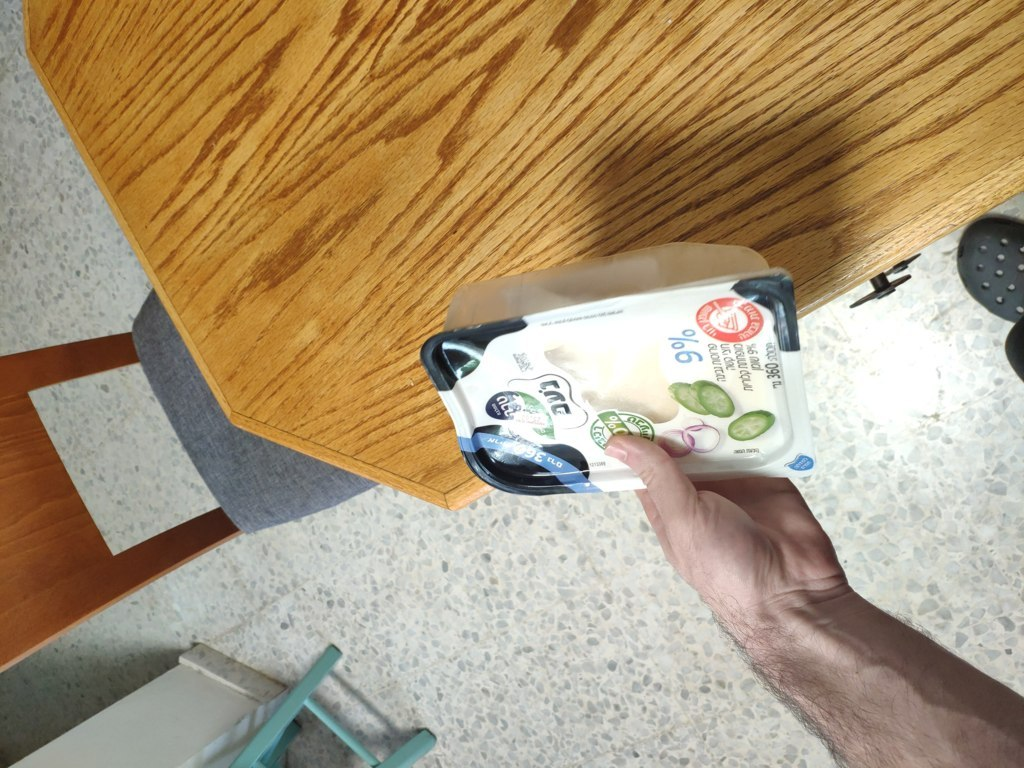Cheese: (441, 264, 794, 531)
